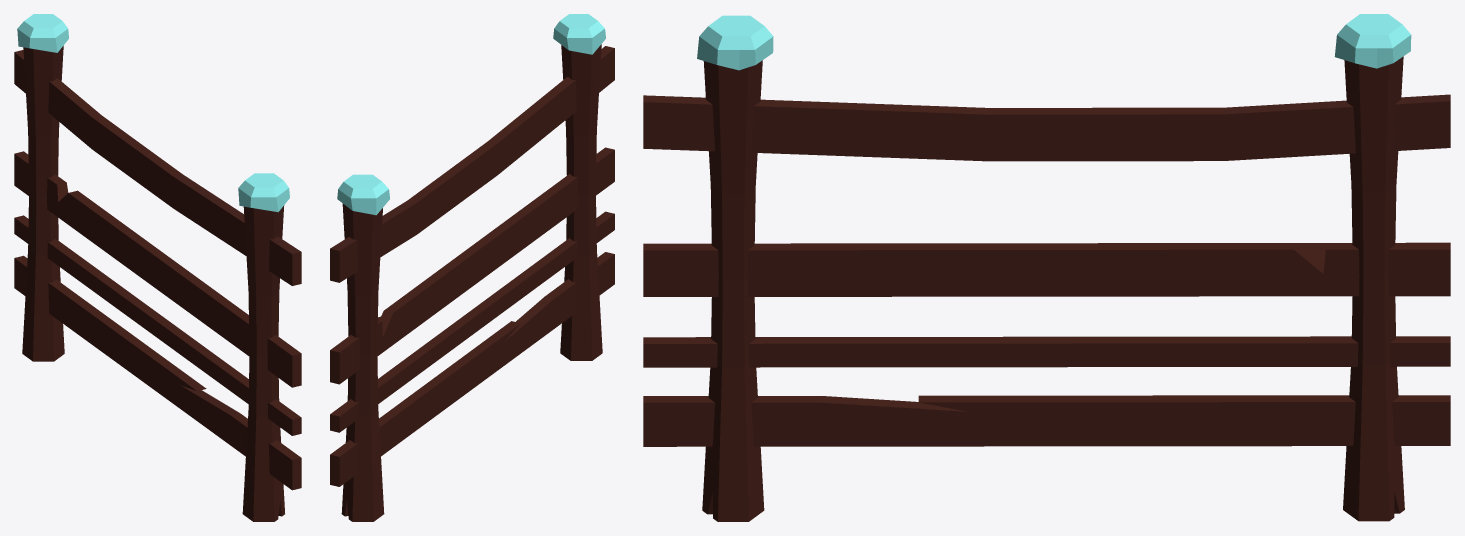
File: fence single.fbx
3 views of the same model, side by side, from view 1: azimuth 30°, elevation 25°; view 2: azimuth 150°, elevation 25°; view 3: azimuth 270°, elevation 25° (orthographic). The views are drawn at different scales.
Parts seen in each view (by area): view 1: fence single; view 2: fence single; view 3: fence single.
Boxes of the visible parts, x1,y1,x2,y2 form: fence single: (14, 14, 301, 521); fence single: (330, 14, 614, 521); fence single: (643, 14, 1450, 521).
Size of the model in its own units: 8.71 by 65.58 by 98.85.
2 materials, 1 textured.
